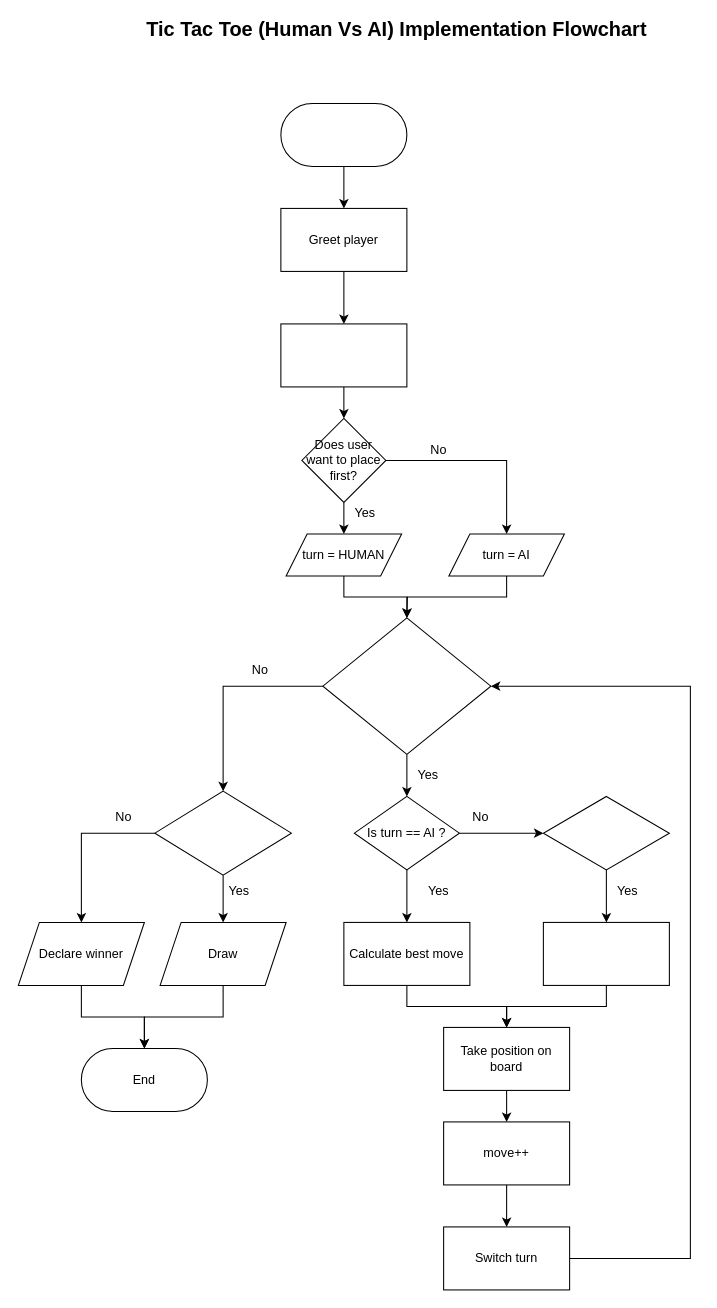
Some shapes in this 717 by 1308 pixel diagram are drawn without their labels. The shapes that lost their labels are listed below. From the top down, each one's box as (x1, y1, x2, y2) in pixels, then its label:
(280, 102, 407, 166): Start
(280, 323, 407, 387): Display board
(322, 617, 491, 754): Is check_winner == false && move < total available move?
(154, 790, 291, 875): Is move == total available move?
(542, 795, 669, 870): Is turn == HUMAN ?
(542, 921, 669, 985): Ask user input
